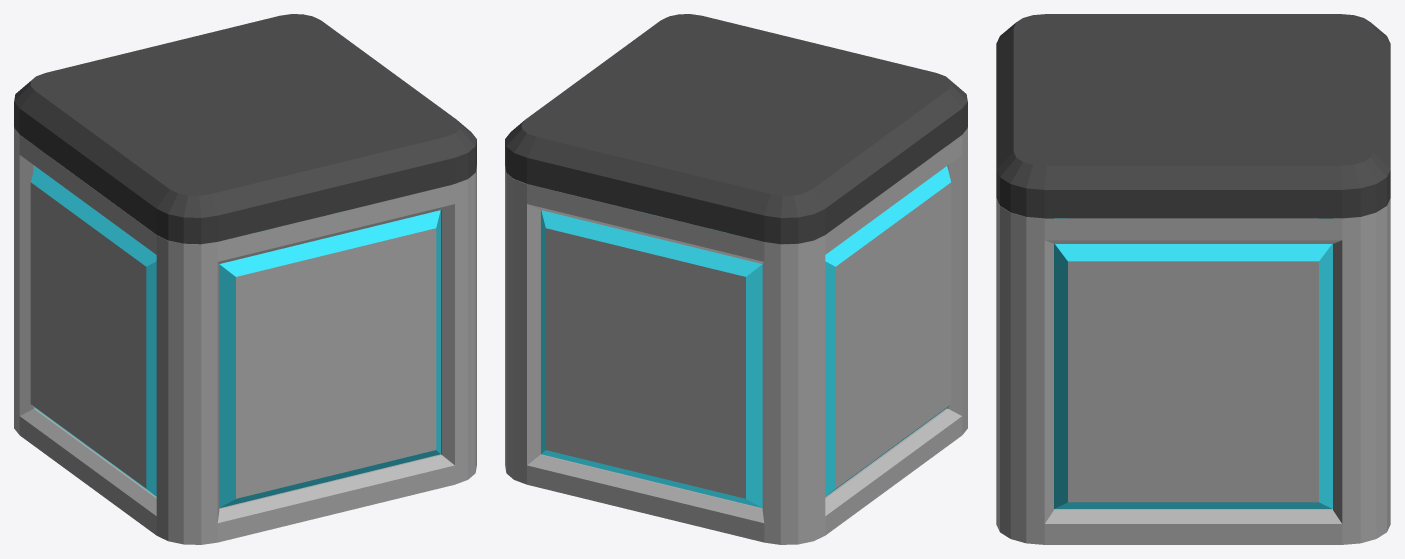
File: SpaceBoxfinal.fbx
The picture shows the model from 3 angles, left to right: view 1: azimuth 30°, elevation 25°; view 2: azimuth 150°, elevation 25°; view 3: azimuth 270°, elevation 25°; orthographic projection. The views are drawn at different scales.
Parts seen in each view (by area): view 1: Cube, Cube.001; view 2: Cube, Cube.001; view 3: Cube, Cube.001.
Boxes of the visible parts, box(x1,y1,x2,y2) form: Cube: box(14, 128, 476, 544); Cube.001: box(14, 14, 476, 244); Cube: box(505, 128, 967, 544); Cube.001: box(505, 14, 967, 244); Cube: box(996, 198, 1390, 544); Cube.001: box(996, 14, 1390, 218).
Size of the model in its own units: 50 by 52 by 50.
